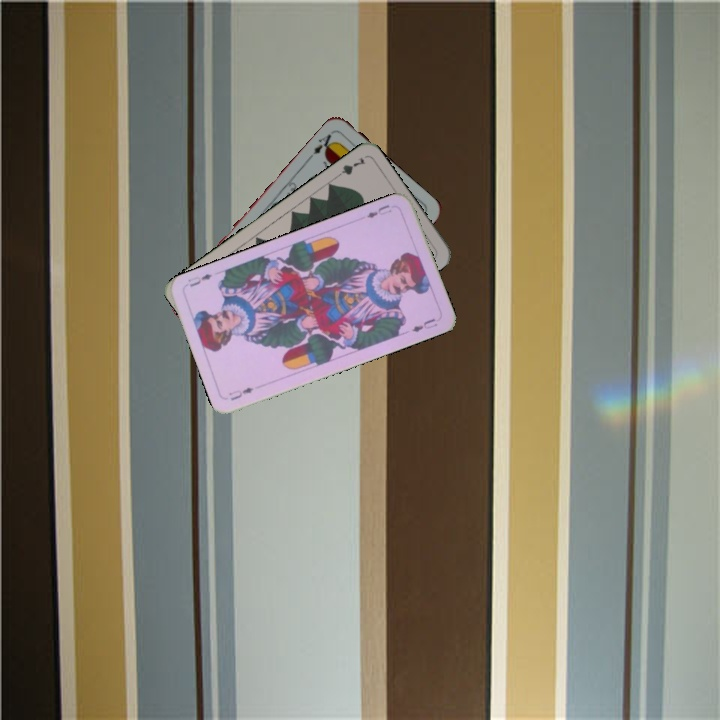EA: (309, 128, 338, 157)
EU: (363, 200, 394, 221), (225, 383, 256, 403)
G7: (331, 153, 368, 181)
